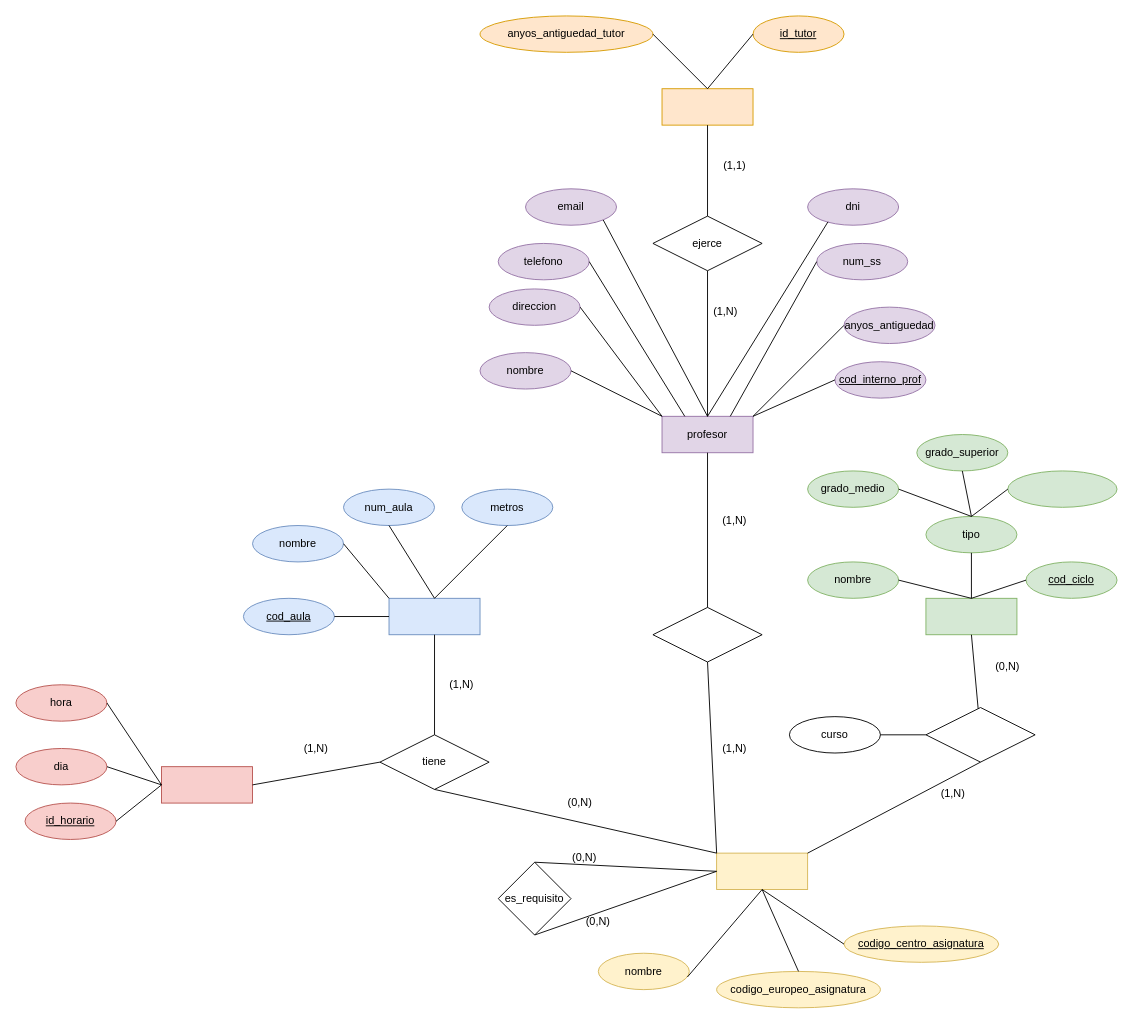
Some shapes in this 1133 by 1024 pixel diagram are drawn without their labels. The centre of each missing label's shape, as x and y in pixels:
asignatura: the point at 762,871
aula: the point at 434,616
ciclo: the point at 971,616
horario: the point at 207,784
imparte: the point at 980,734
iniciacion_profesinal: the point at 1062,488
realiza: the point at 707,634
tutor: the point at 707,106
